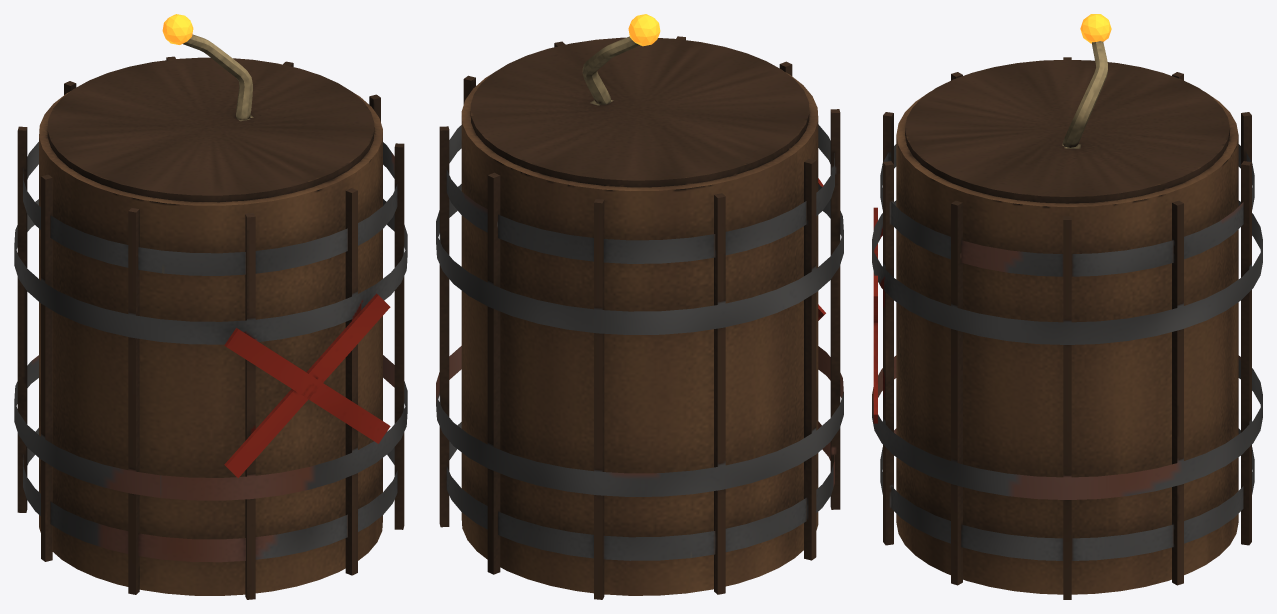
The model's file is proj_barril_explosivo.glb.
The picture shows the model from 3 angles, left to right: view 1: azimuth 30°, elevation 25°; view 2: azimuth 150°, elevation 25°; view 3: azimuth 270°, elevation 25°; orthographic projection. The views are drawn at different scales.
Parts seen in each view (by area): view 1: proj_barril_explosivo; view 2: proj_barril_explosivo; view 3: proj_barril_explosivo.
Part boxes in pixels (x1,y1,x2,y2): proj_barril_explosivo: (14,14,407,599); proj_barril_explosivo: (436,14,843,599); proj_barril_explosivo: (872,14,1262,599).
Bounding box in the file's own units: 0.5484 × 0.772 × 0.5484.
Materials: 2 (1 with a texture image).
